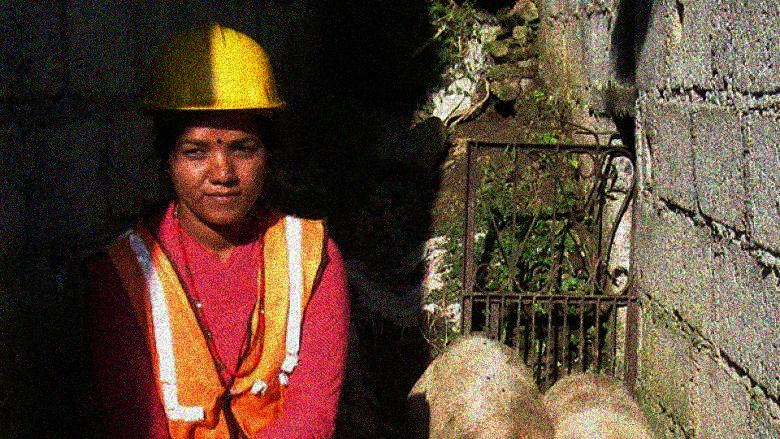helmet: (137, 20, 287, 224)
